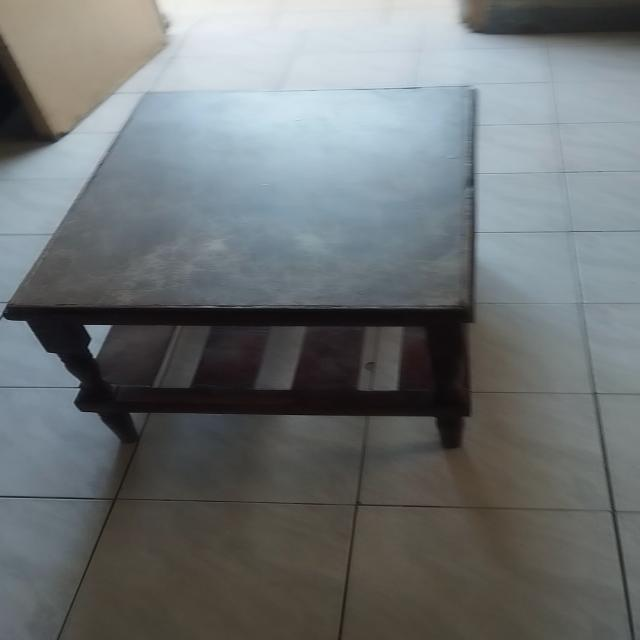table: (0, 82, 488, 455)
